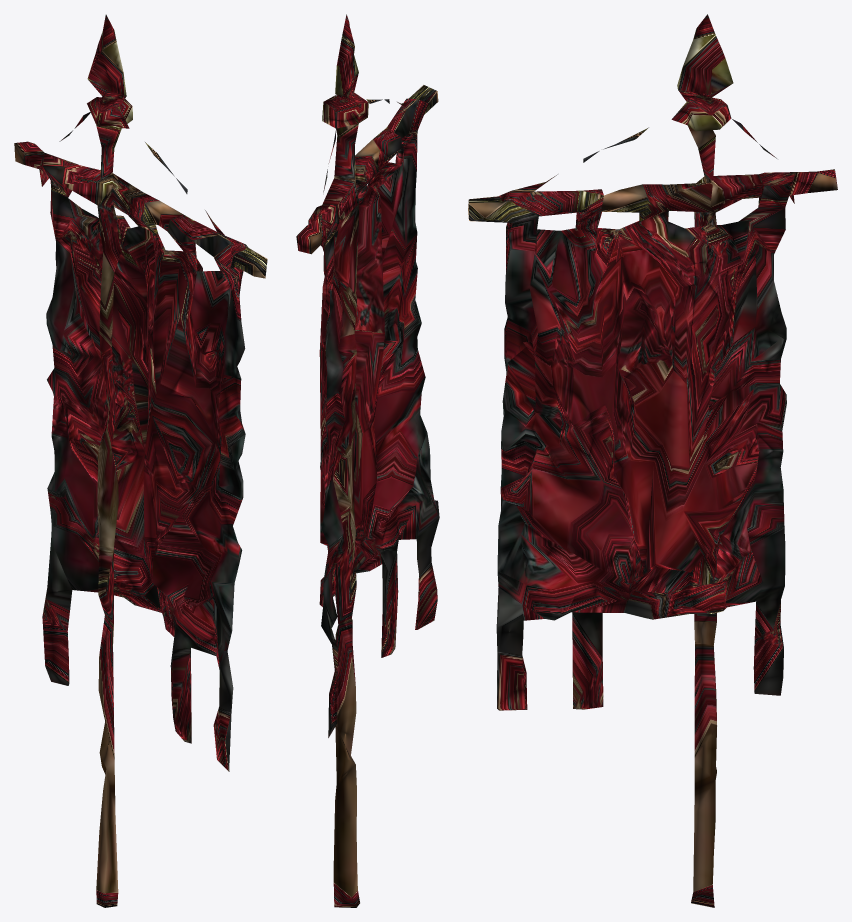
Rendered from banner-low.glb.
The picture shows the model from 3 angles, left to right: view 1: azimuth 30°, elevation 25°; view 2: azimuth 150°, elevation 25°; view 3: azimuth 270°, elevation 25°; orthographic projection.
Bounding box in the file's own units: 0.0878 × 0.9869 × 0.3719.
Materials: 1 (1 with a texture image).
